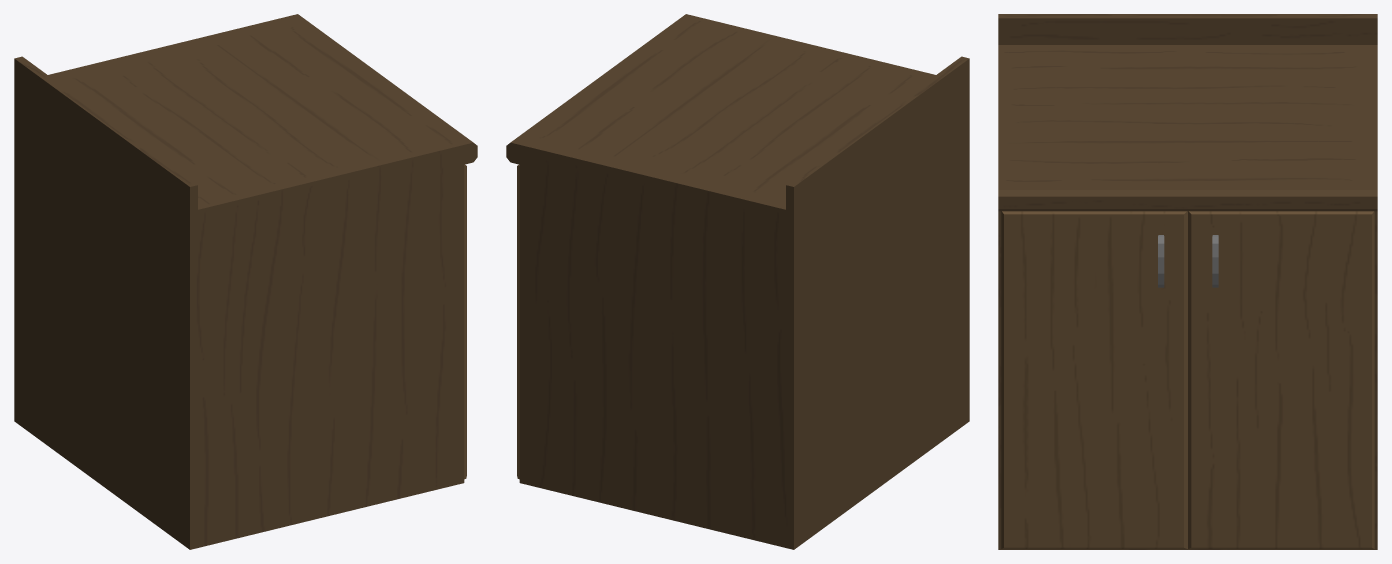
The model's file is KitchenCabinet1.fbx.
3 renders of one model, left to right at view 1: azimuth 30°, elevation 25°; view 2: azimuth 150°, elevation 25°; view 3: azimuth 270°, elevation 25°, orthographic. The views are drawn at different scales.
Parts seen in each view (by area): view 1: KitchenCabinet1.001; view 2: KitchenCabinet1.001; view 3: KitchenCabinet1.001.
Part boxes in pixels (x1=…): KitchenCabinet1.001: x1=14, y1=14, x2=477, y2=549; KitchenCabinet1.001: x1=506, y1=14, x2=969, y2=549; KitchenCabinet1.001: x1=998, y1=14, x2=1377, y2=549.
Size of the model in its own units: 91.94 by 110 by 96.71.
1 material, 1 textured.
